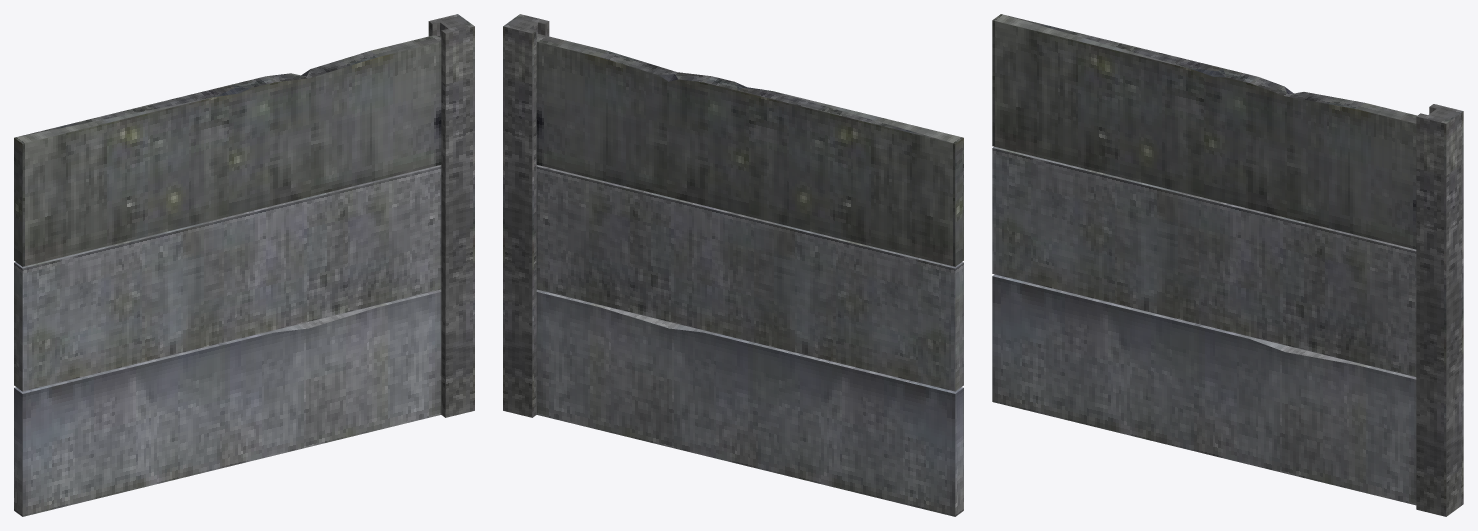
File: lf_plackard_closed.glb
3 renders of one model, left to right at view 1: azimuth 30°, elevation 25°; view 2: azimuth 150°, elevation 25°; view 3: azimuth 330°, elevation 25°, orthographic. The views are drawn at different scales.
Visible parts, largest first — view 1: plackard_closed; view 2: plackard_closed; view 3: plackard_closed.
Part boxes in pixels (box(x1,y1,x2,y2)): plackard_closed: box(14, 14, 474, 516); plackard_closed: box(503, 14, 963, 516); plackard_closed: box(992, 14, 1463, 516).
Bounding box in the file's own units: 3.05 × 2.5 × 0.1999.
1 material, 1 textured.
